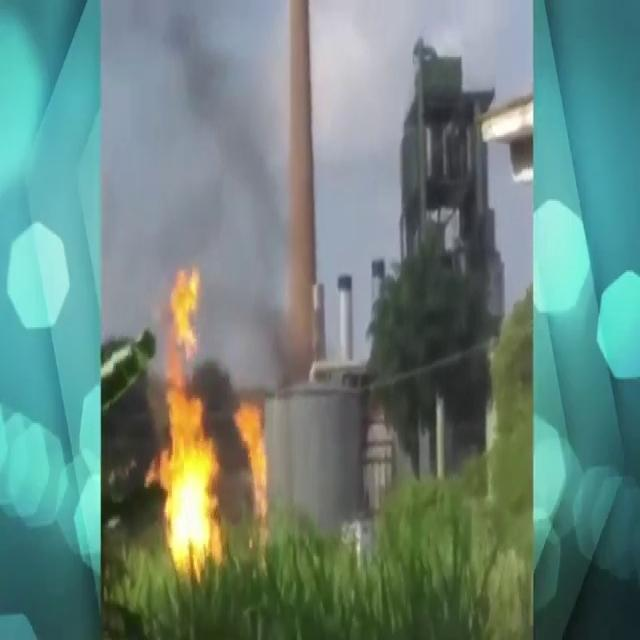Fire: (147, 250, 270, 578)
